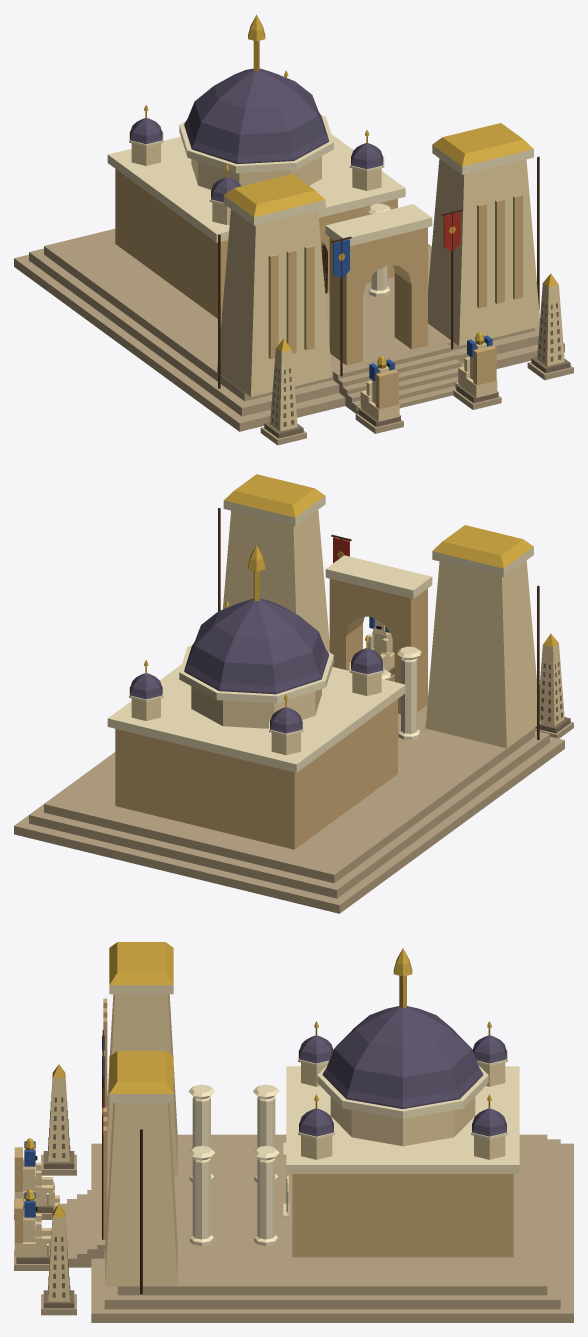
File: temple.fbx
3 renders of one model, top to bottom at view 1: azimuth 30°, elevation 25°; view 2: azimuth 150°, elevation 25°; view 3: azimuth 270°, elevation 25°, orthographic. The views are drawn at different scales.
Visible parts, largest first — view 1: temple; view 2: temple; view 3: temple.
Boxes of the visible parts, bbox=[...] form: temple: bbox=[14, 14, 573, 445]; temple: bbox=[14, 474, 573, 913]; temple: bbox=[14, 942, 573, 1322].
Bounding box in the file's own units: 20 × 15.91 × 27.84.
Materials: 1 (1 with a texture image).
